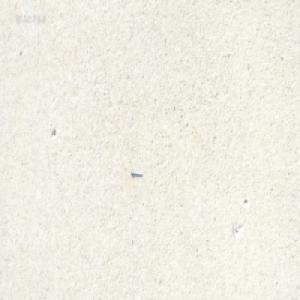Nail: (129, 169, 142, 176)
